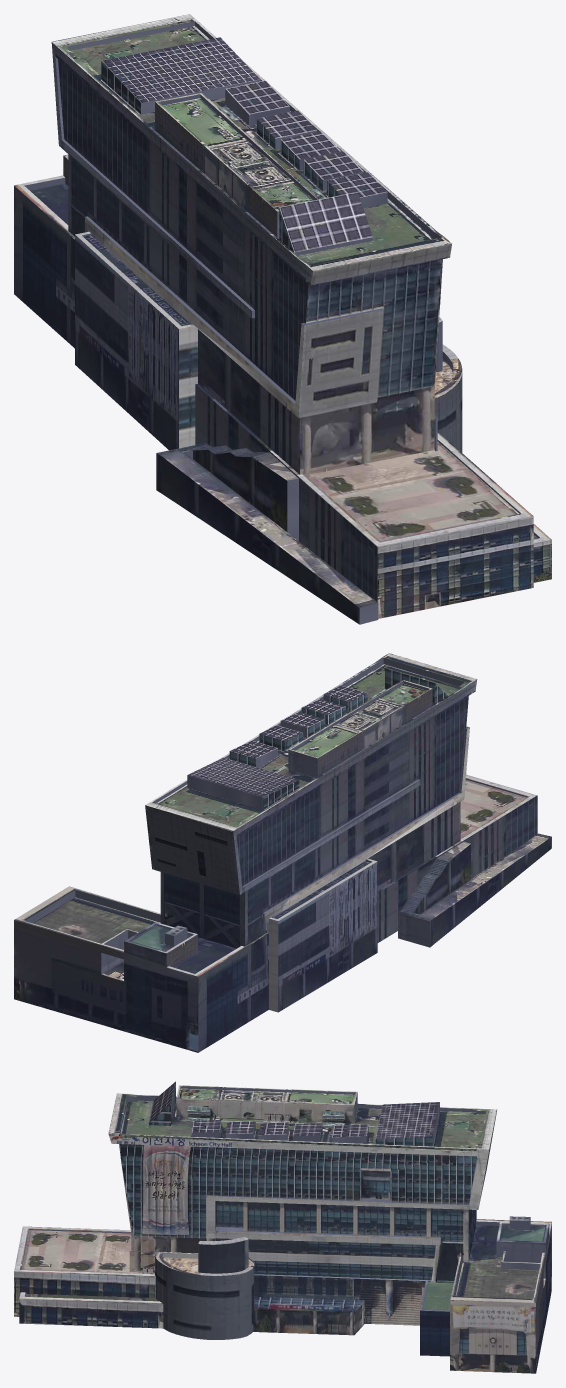
File: ICCH0001.glb
The picture shows the model from 3 angles, top to bottom: view 1: azimuth 30°, elevation 25°; view 2: azimuth 150°, elevation 25°; view 3: azimuth 270°, elevation 25°; orthographic projection. The views are drawn at different scales.
Visible parts, largest first — view 1: MainBuilding; view 2: MainBuilding; view 3: MainBuilding.
Part boxes in pixels (<box>): MainBuilding: <box>14,14,551,624</box>; MainBuilding: <box>14,653,551,1052</box>; MainBuilding: <box>14,1081,551,1373</box>.
Size of the model in its own units: 0.5903 by 0.4823 by 1.19.
1 material, 1 textured.
